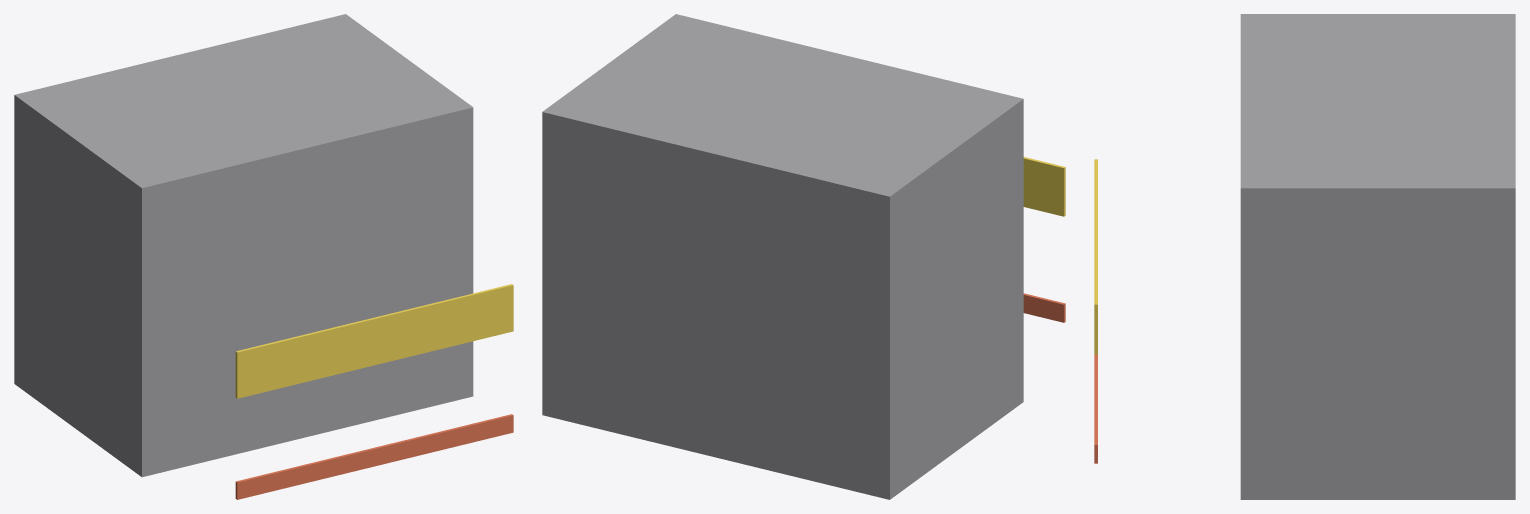
Rendered from cargo_container.glb.
The picture shows the model from 3 angles, left to right: view 1: azimuth 30°, elevation 25°; view 2: azimuth 150°, elevation 25°; view 3: azimuth 270°, elevation 25°; orthographic projection. The views are drawn at different scales.
Visible parts, largest first — view 1: Cube, Cube.001, Cube.002; view 2: Cube, Cube.001, Cube.002; view 3: Cube, Cube.001.
Boxes of the visible parts, <box> form: Cube: <box>14,14,473,477</box>; Cube.001: <box>235,284,513,398</box>; Cube.002: <box>235,414,513,499</box>; Cube: <box>542,14,1023,499</box>; Cube.001: <box>1023,157,1065,216</box>; Cube.002: <box>1023,293,1065,322</box>; Cube: <box>1240,14,1515,499</box>; Cube.001: <box>1094,159,1097,354</box>.
Size of the model in its own units: 0.6 by 0.5 by 0.6125.
